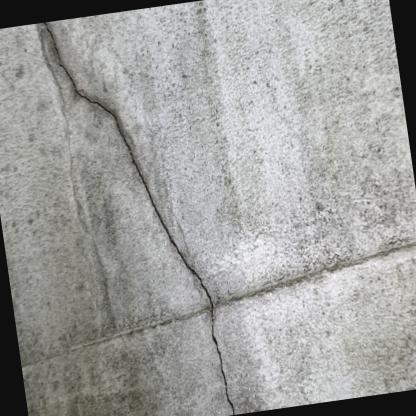crack: (44, 28, 236, 415)
